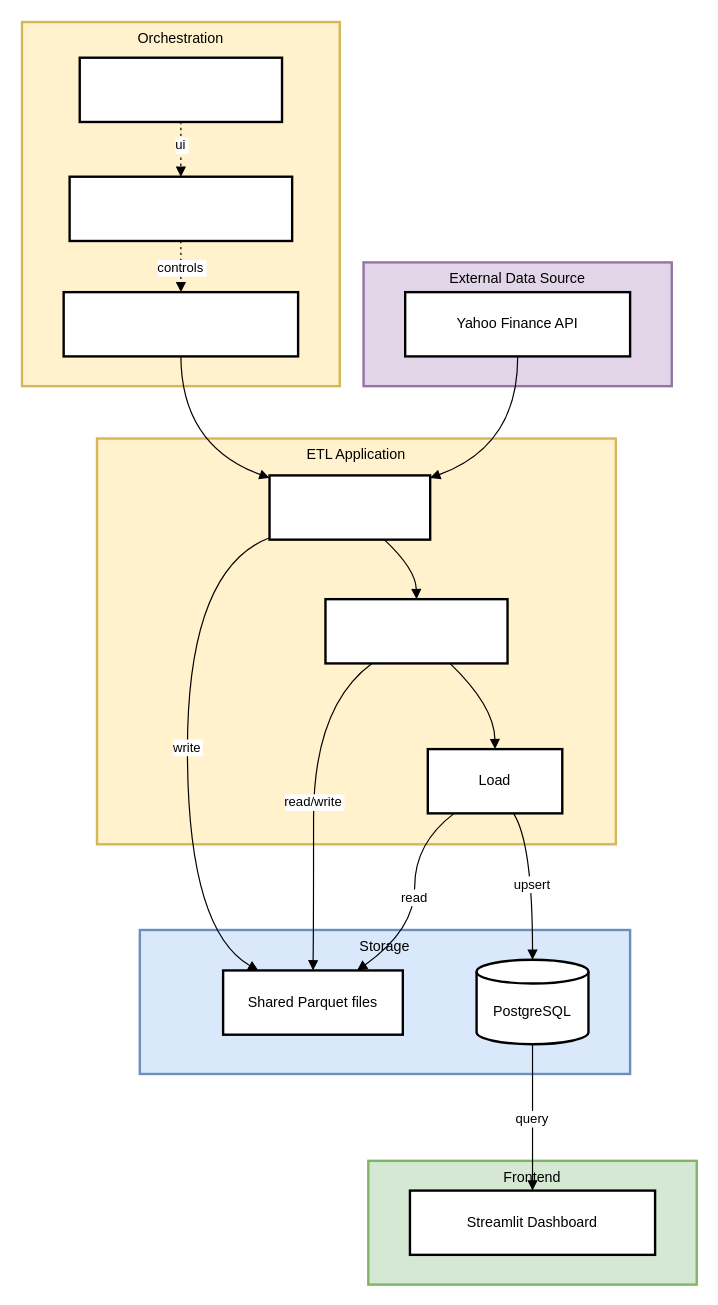
The diagram is 718 pixels wide and 1305 high, and some of its shapes have lost their labels. Each missing label, with the centre of its shape:
"Airflow Scheduler" belongs at (x=180, y=208).
"Airflow Webserver" belongs at (x=180, y=89).
"Extract" belongs at (x=349, y=507).
"stock_pipeline_dag" belongs at (x=180, y=323).
"Transform" belongs at (x=416, y=630).
